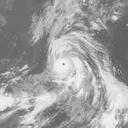cyclone: (46, 43, 83, 83)
